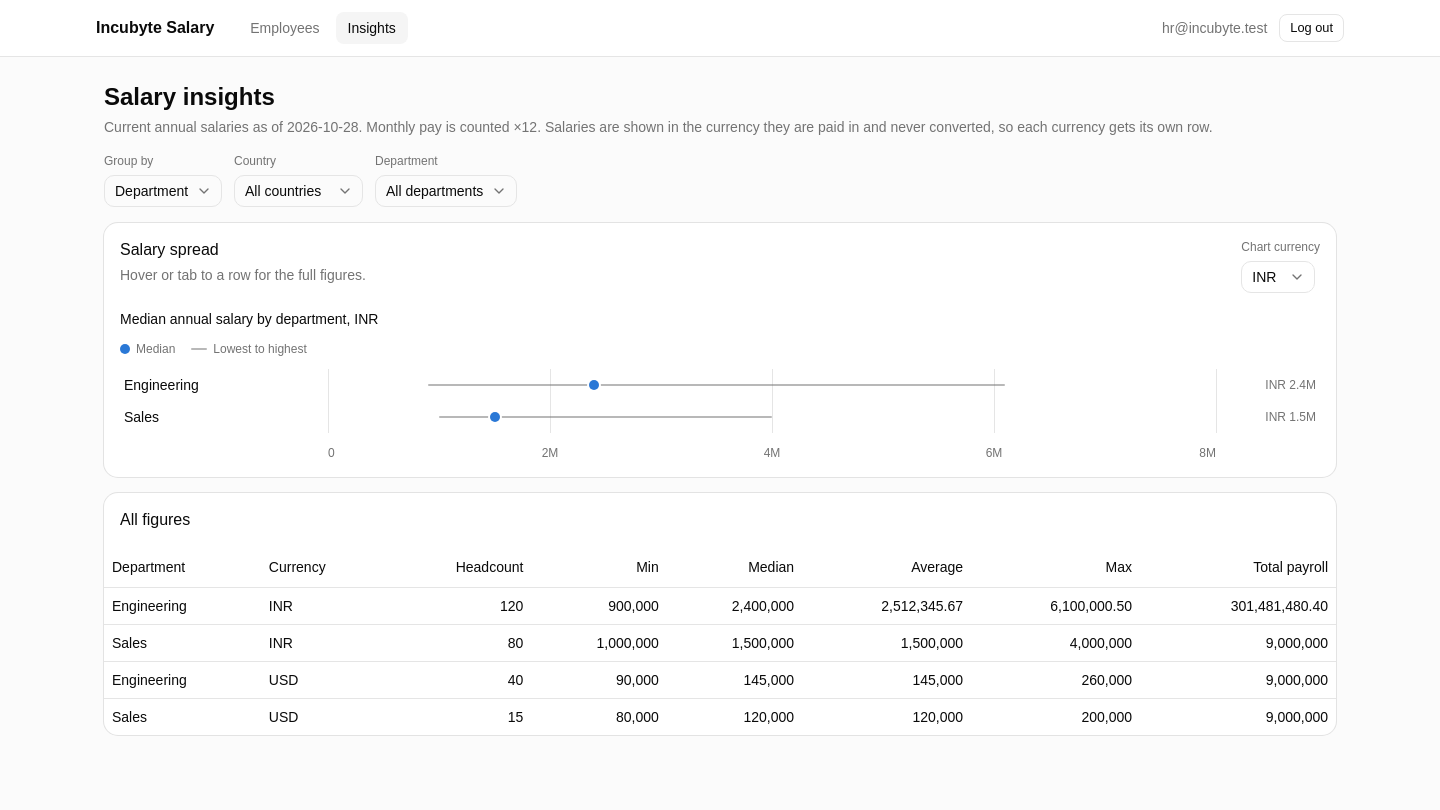
Test case: Salary insights › shows the full figures for a group on hover or keyboard focus
The width and height of the screenshot is (1440, 810).
Hover over the list item "Engineering INR 2.4M": (720, 385) left=124, top=377, right=1316, bottom=393
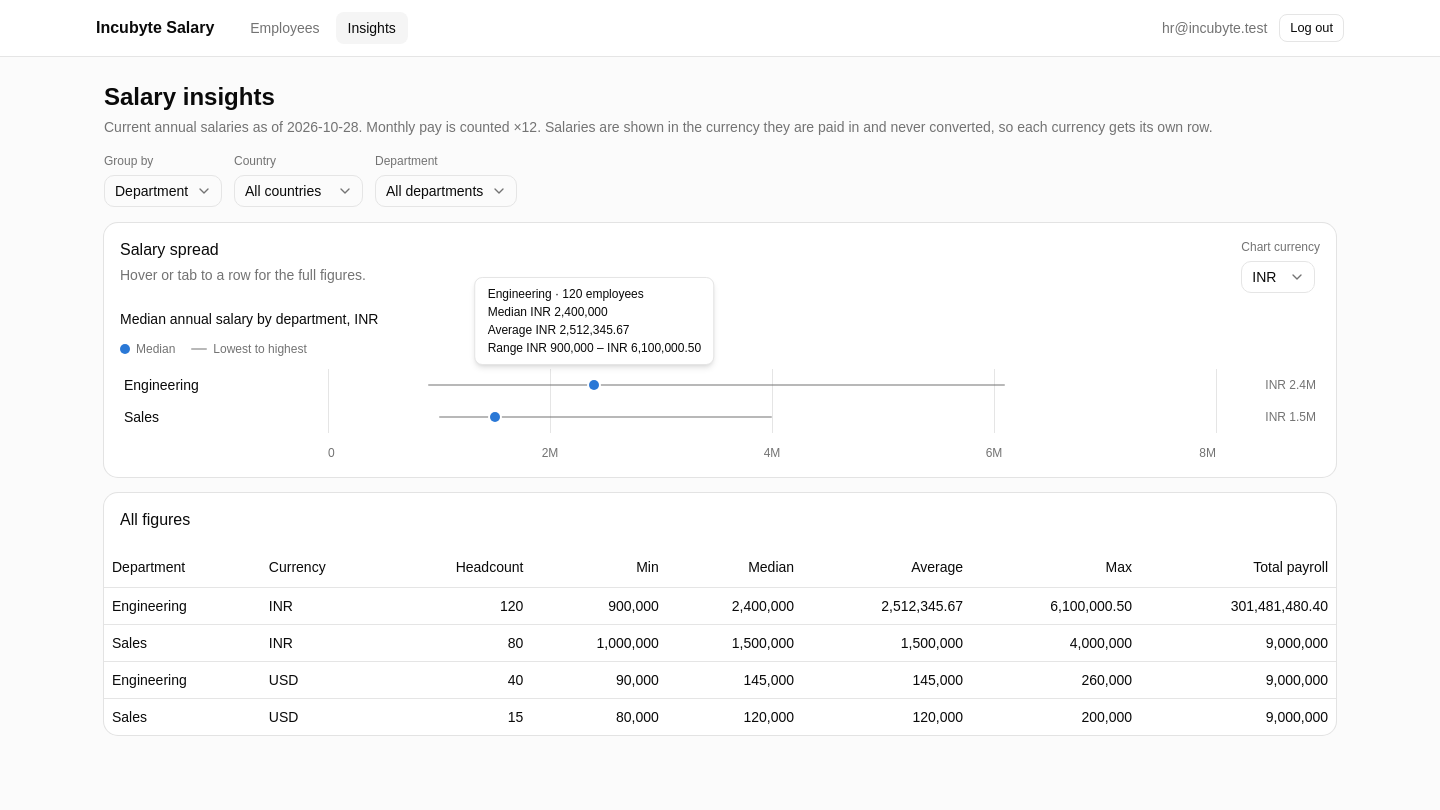
Check: the tooltip shows "Engineering · 120 employees", box left=475, top=277, right=714, bottom=365
Check: the tooltip shows "Median INR 2,400,000", box left=475, top=277, right=714, bottom=365
Check: the tooltip shows "Range INR 900,000 – INR 6,100,000.50", box left=475, top=277, right=714, bottom=365
